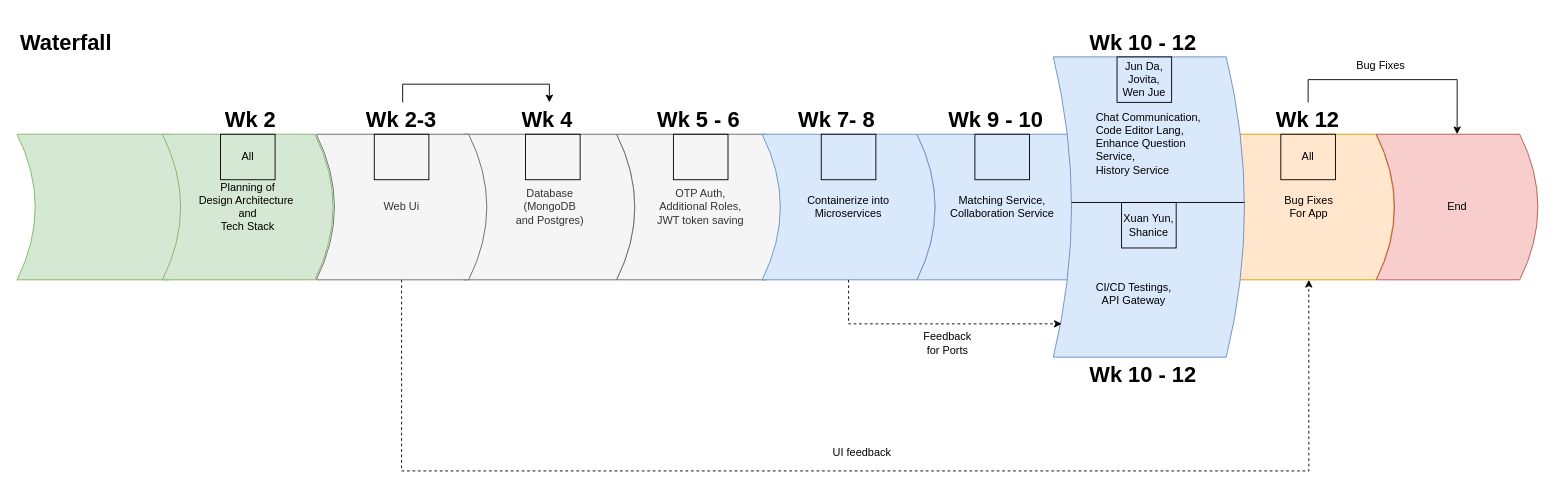
Some shapes in this 1553 by 494 pixel diagram are drawn without their labels. Each missing label, with the centre of its shape:
"Jovita" goes at point (401, 156).
"Shanice" goes at point (848, 156).
"Shanice, Jovita" goes at point (552, 156).
"Start" goes at point (102, 206).
"Wen Jue, Jovita" goes at point (1001, 156).
"Wen Jue, Xuan Yun, Jun Da" goes at point (700, 156).
